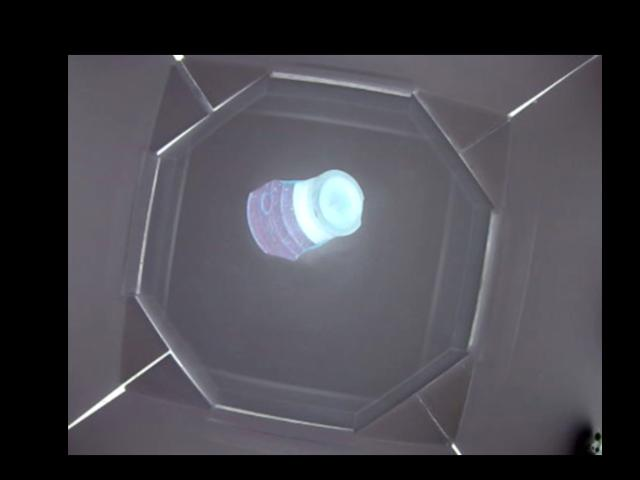China: (244, 168, 364, 261)
